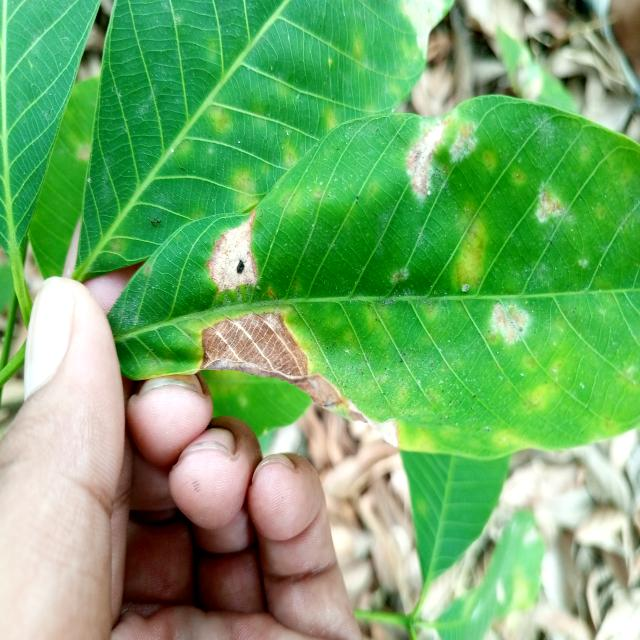Leaf-Blight: (200, 311, 342, 405), (208, 210, 258, 293), (347, 402, 400, 449)
